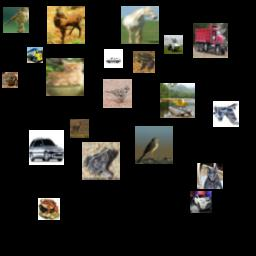airplane: (160, 83, 195, 118), (213, 101, 239, 127)
automobile: (29, 130, 64, 165), (190, 191, 212, 213), (104, 49, 123, 68)
bird: (135, 126, 173, 164), (103, 79, 132, 108), (3, 7, 29, 33)
cat: (46, 58, 84, 96), (197, 163, 223, 189)
deer: (47, 6, 85, 44), (70, 119, 89, 138)
frog: (82, 142, 120, 180), (38, 198, 60, 220), (133, 51, 155, 73), (2, 72, 18, 88)
truck: (193, 23, 228, 58), (164, 35, 183, 54), (27, 47, 43, 63)
